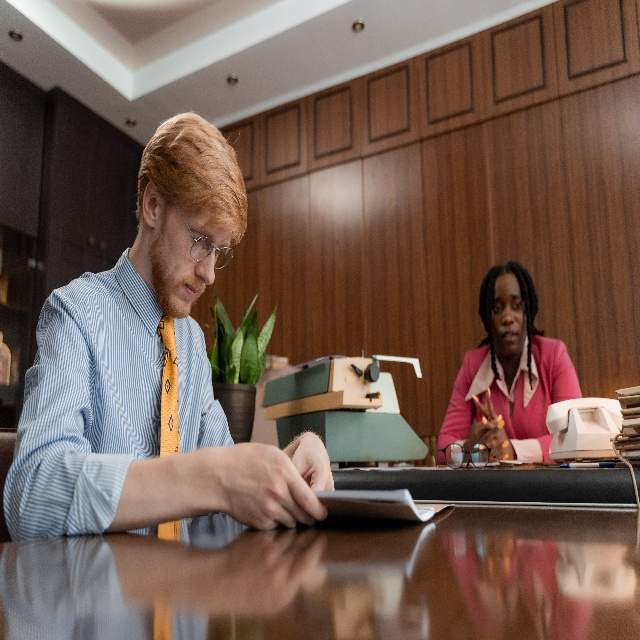Gafas: (186, 224, 233, 270), (441, 437, 492, 467)
Sin_guantes: (227, 439, 326, 532), (283, 427, 340, 498), (468, 392, 510, 465)
